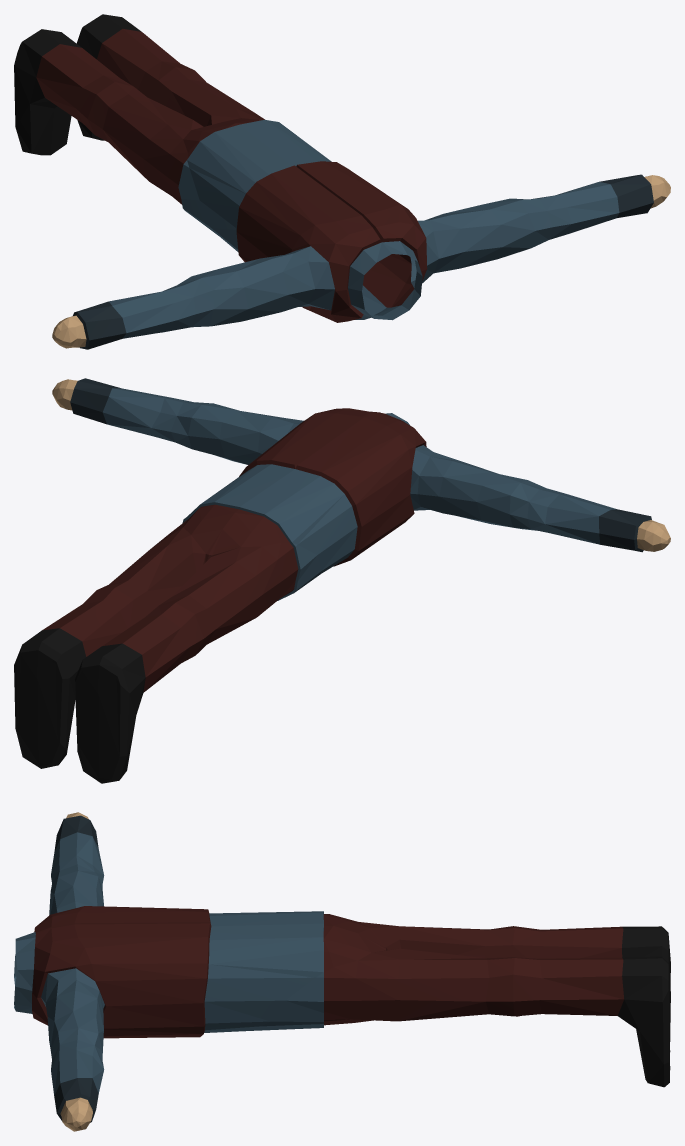
Rendered from OldVest.glb.
The picture shows the model from 3 angles, top to bottom: view 1: azimuth 30°, elevation 25°; view 2: azimuth 150°, elevation 25°; view 3: azimuth 270°, elevation 25°; orthographic projection.
Parts seen in each view (by area): view 1: OldVest; view 2: OldVest; view 3: OldVest.
Part boxes in pixels (x1=…): OldVest: x1=14, y1=14, x2=670, y2=349; OldVest: x1=14, y1=378, x2=670, y2=783; OldVest: x1=14, y1=812, x2=670, y2=1131.
Bounding box in the file's own units: 1.21 × 0.2768 × 1.11.
Materials: 1 (1 with a texture image).
